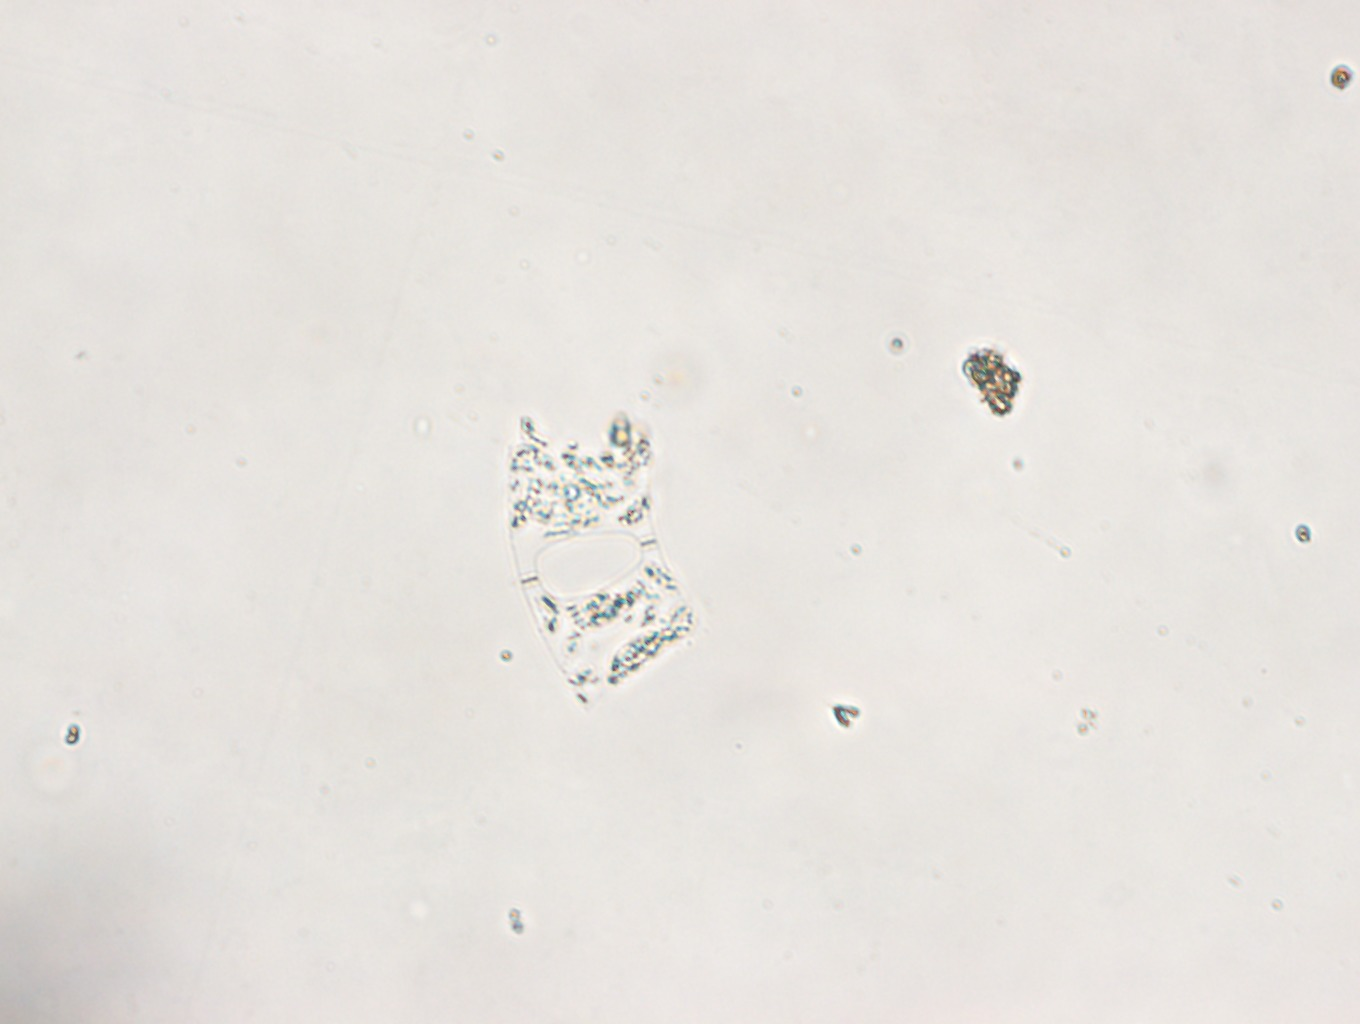eucampia: (501, 394, 704, 719)
